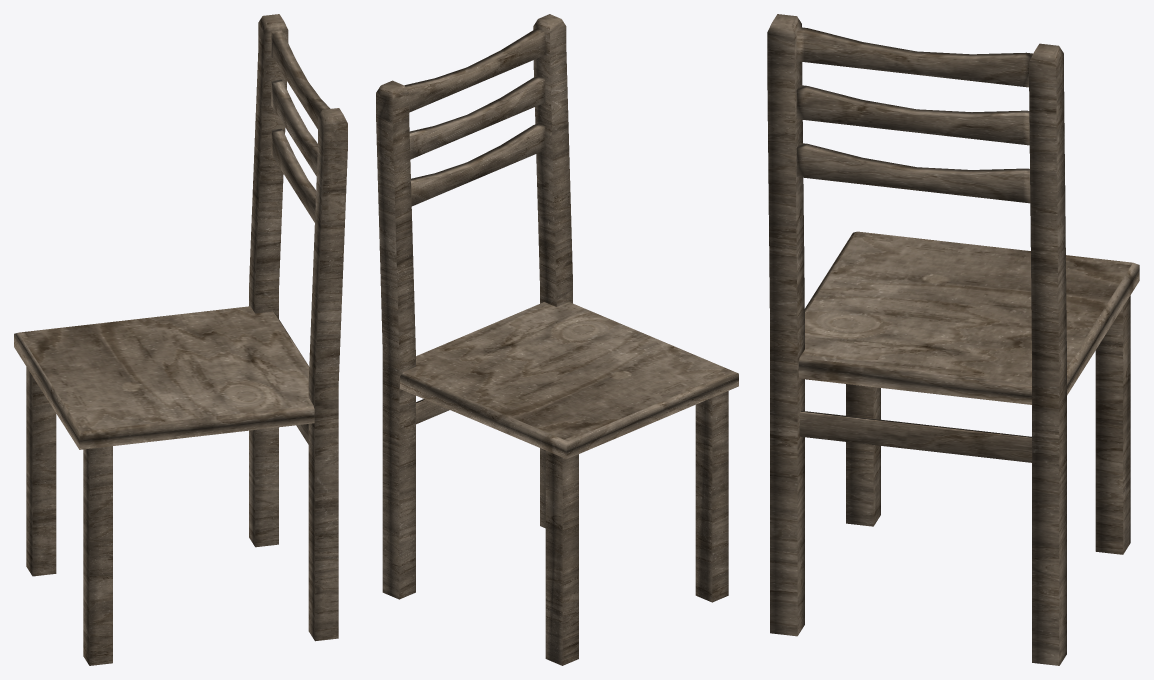
The model's file is SillaEXPORT.glb.
3 renders of one model, left to right at view 1: azimuth 30°, elevation 25°; view 2: azimuth 150°, elevation 25°; view 3: azimuth 270°, elevation 25°, orthographic. The views are drawn at different scales.
Parts seen in each view (by area): view 1: TOPOR:Mesh; view 2: TOPOR:Mesh; view 3: TOPOR:Mesh.
Part boxes in pixels (left/top/right/bottom): TOPOR:Mesh: left=14, top=14, right=347, bottom=665; TOPOR:Mesh: left=376, top=14, right=738, bottom=665; TOPOR:Mesh: left=767, top=14, right=1139, bottom=665.
Size of the model in its own units: 1.36 by 2.35 by 1.29.
1 material, 1 textured.
